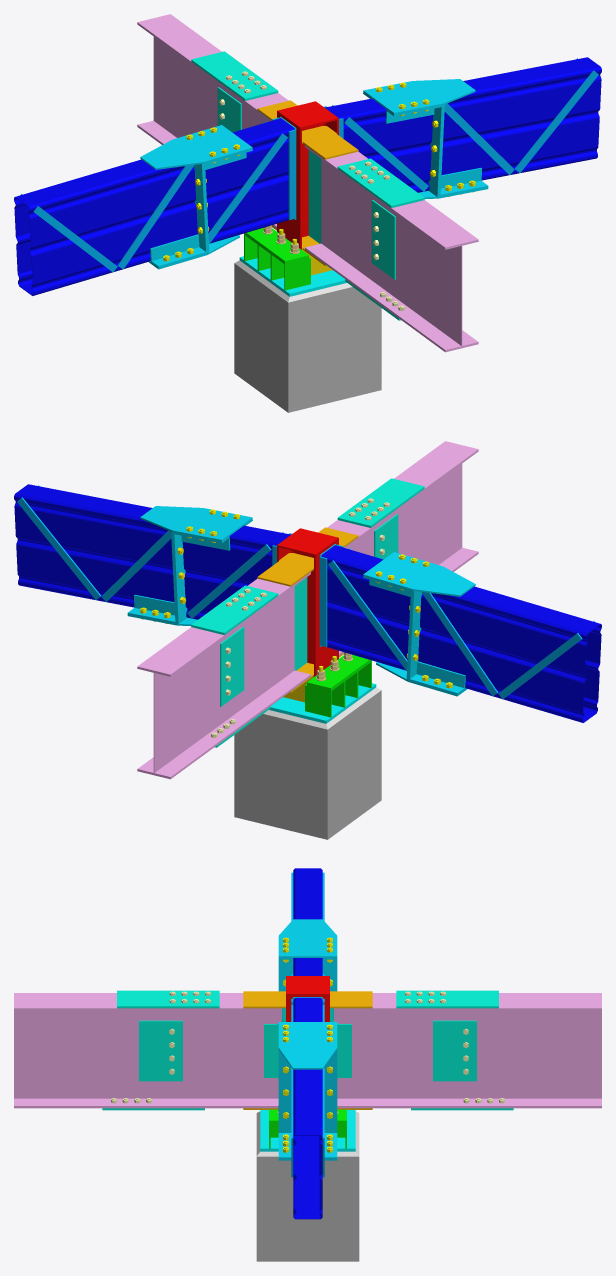
Rendered from PI23713-DETALLE1-R3.glb.
3 views of the same model, one above another, from view 1: azimuth 30°, elevation 25°; view 2: azimuth 150°, elevation 25°; view 3: azimuth 270°, elevation 25° (orthographic). The views are drawn at different scales.
Visible parts, largest first — view 1: Viga TB650x200x4x3, Viga HE750x250x16x6, Columna hormigon 700x700, Empalme TB650, Empalme HE750, Rigidizadores TB, Columna HEA300, Silla de anclaje, PL continuidad, Placa base 650x650x22, Pernos empalme TB 1, Pernos HE750 7-8 (+1 smaller); view 2: Viga TB650x200x4x3, Viga HE750x250x16x6, Columna hormigon 700x700, Empalme TB650, Empalme HE750, Rigidizadores TB, Columna HEA300, Silla de anclaje, PL continuidad, Placa base 650x650x22, Pernos empalme TB 1, Pernos HE750 7-8 (+1 smaller); view 3: Viga HE750x250x16x6, Empalme HE750, Columna hormigon 700x700, Empalme TB650, Viga TB650x200x4x3, PL continuidad, Columna HEA300, Rigidizadores TB, Placa base 650x650x22, Pernos HE750 7-8, Pernos empalme TB 1, Grout e=25 (+1 smaller).
Boxes of the visible parts, <box> form: Viga TB650x200x4x3: <box>14,57,601,295</box>; Viga HE750x250x16x6: <box>137,14,478,352</box>; Columna hormigon 700x700: <box>234,263,381,412</box>; Empalme TB650: <box>140,79,488,269</box>; Empalme HE750: <box>191,51,424,320</box>; Rigidizadores TB: <box>20,58,598,272</box>; Columna HEA300: <box>277,101,338,249</box>; Silla de anclaje: <box>244,227,310,290</box>; PL continuidad: <box>257,100,358,265</box>; Placa base 650x650x22: <box>239,256,346,296</box>; Pernos empalme TB 1: <box>163,82,475,261</box>; Pernos HE750 7-8: <box>219,71,404,310</box>; Viga TB650x200x4x3: <box>14,484,601,722</box>; Viga HE750x250x16x6: <box>137,441,478,779</box>; Columna hormigon 700x700: <box>234,690,381,839</box>; Empalme TB650: <box>127,506,475,696</box>; Empalme HE750: <box>191,478,424,747</box>; Rigidizadores TB: <box>17,485,595,699</box>; Columna HEA300: <box>277,528,338,676</box>; Silla de anclaje: <box>305,654,371,717</box>; PL continuidad: <box>257,527,358,692</box>; Placa base 650x650x22: <box>269,683,376,723</box>; Pernos empalme TB 1: <box>140,509,452,688</box>; Pernos HE750 7-8: <box>211,498,389,737</box>; Viga HE750x250x16x6: <box>14,993,601,1108</box>; Empalme HE750: <box>102,990,513,1110</box>; Columna hormigon 700x700: <box>256,1156,359,1261</box>; Empalme TB650: <box>278,919,337,1160</box>; Viga TB650x200x4x3: <box>293,868,322,1219</box>; PL continuidad: <box>243,991,372,1109</box>; Columna HEA300: <box>286,976,329,1021</box>; Rigidizadores TB: <box>291,872,324,1177</box>; Placa base 650x650x22: <box>260,1110,355,1151</box>; Pernos HE750 7-8: <box>111,991,504,1103</box>; Pernos empalme TB 1: <box>283,937,332,1152</box>; Grout e=25: <box>256,1111,359,1156</box>.
Bounding box in the file's own units: 4.29 × 1.92 × 4.
